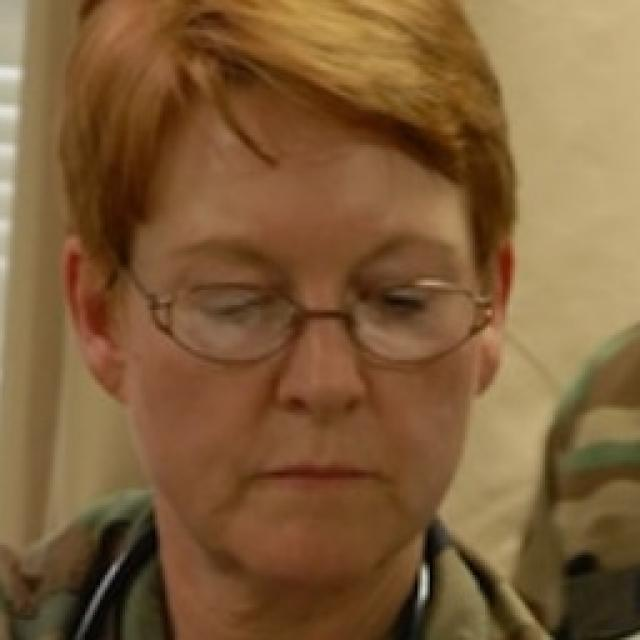glasses: (116, 243, 504, 377)
